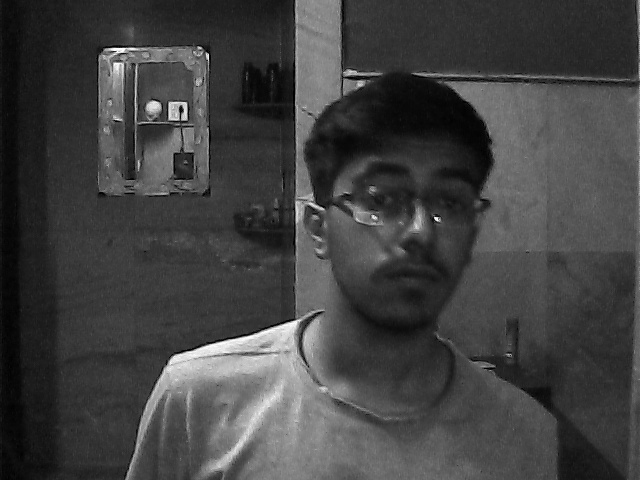nomask: (330, 119, 474, 331)
